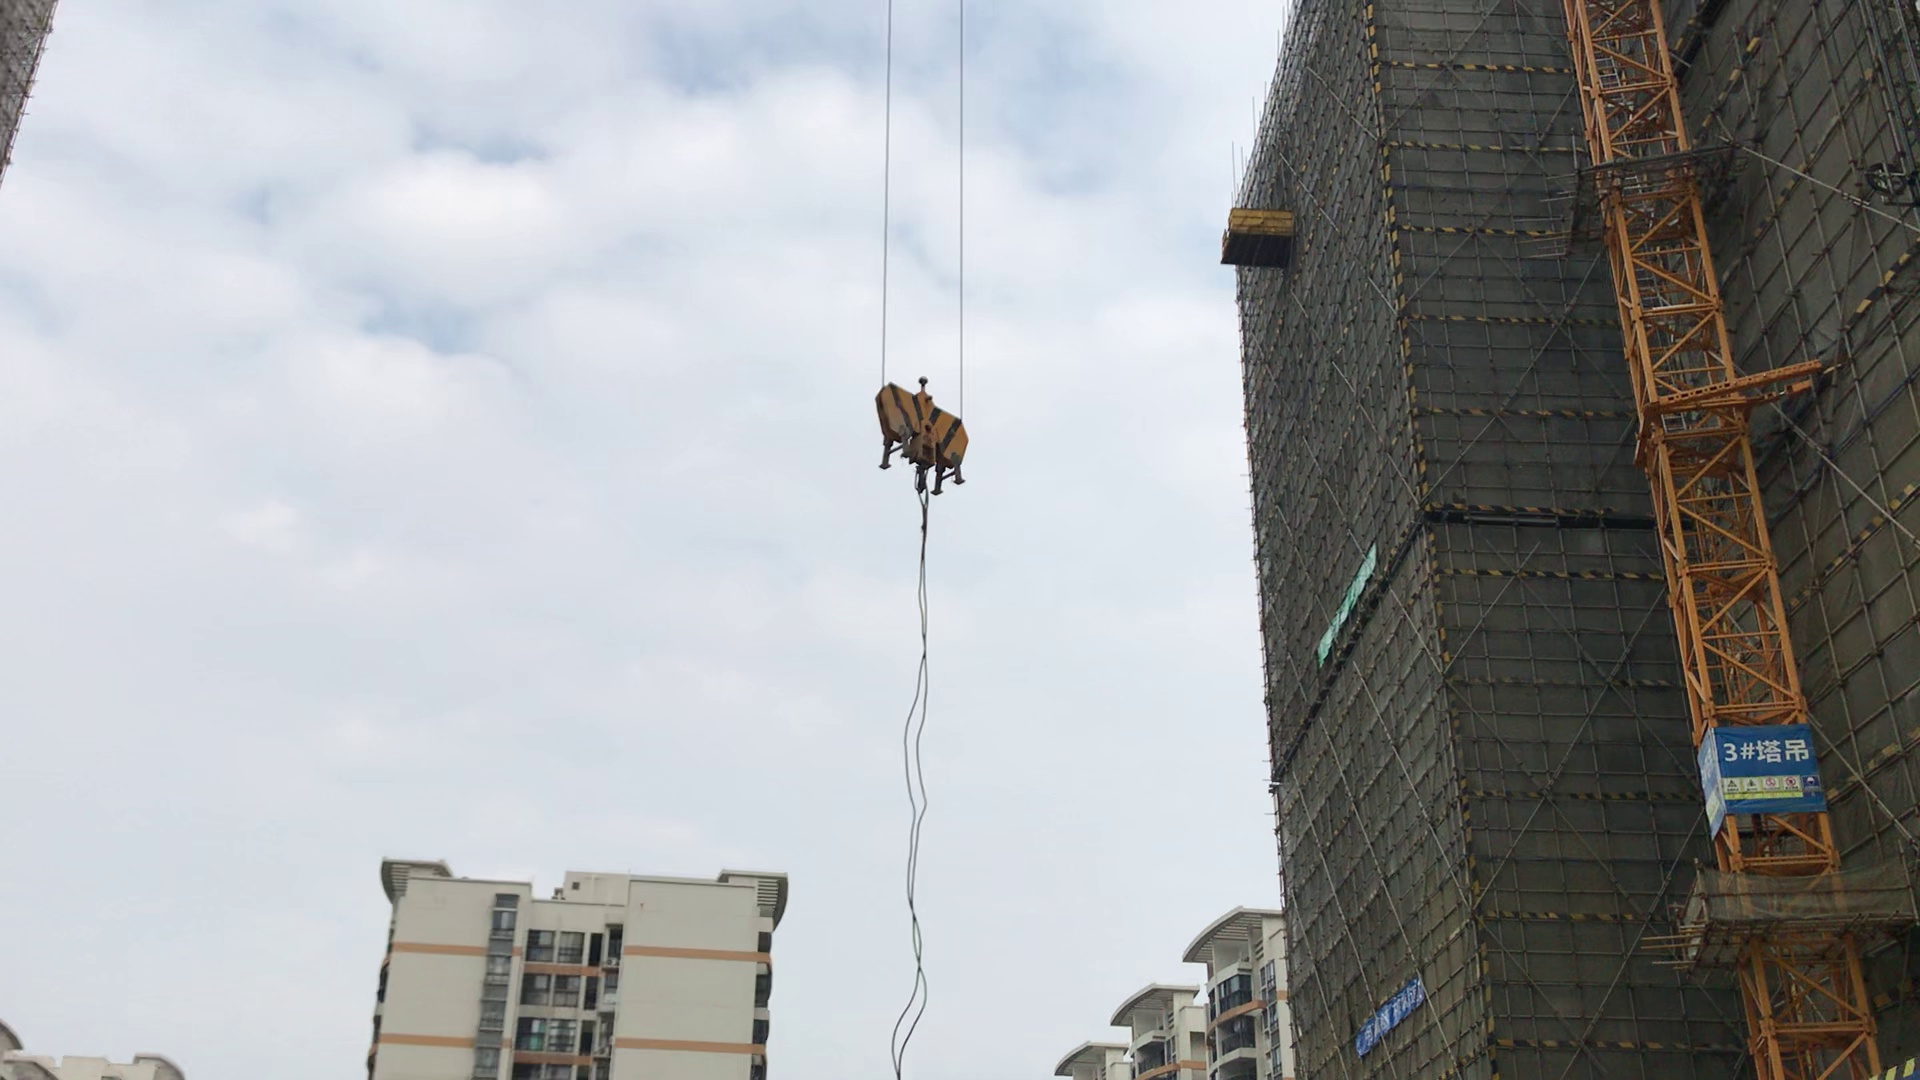hook: (858, 376, 996, 516)
